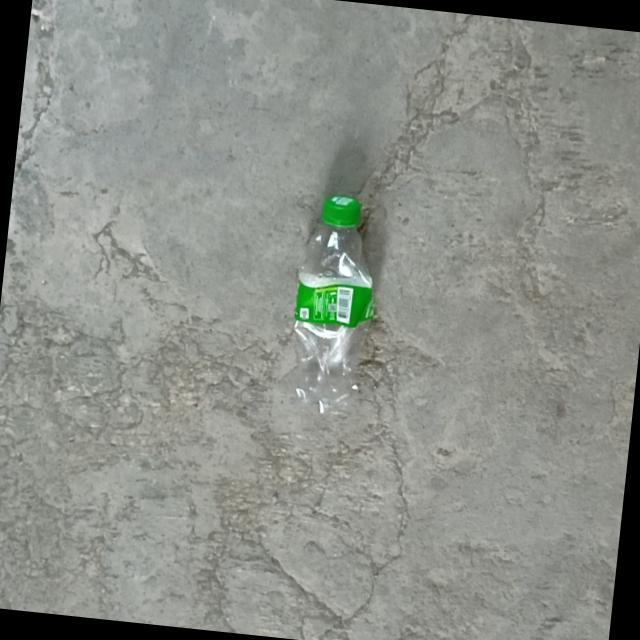Bottle: (287, 195, 373, 412)
